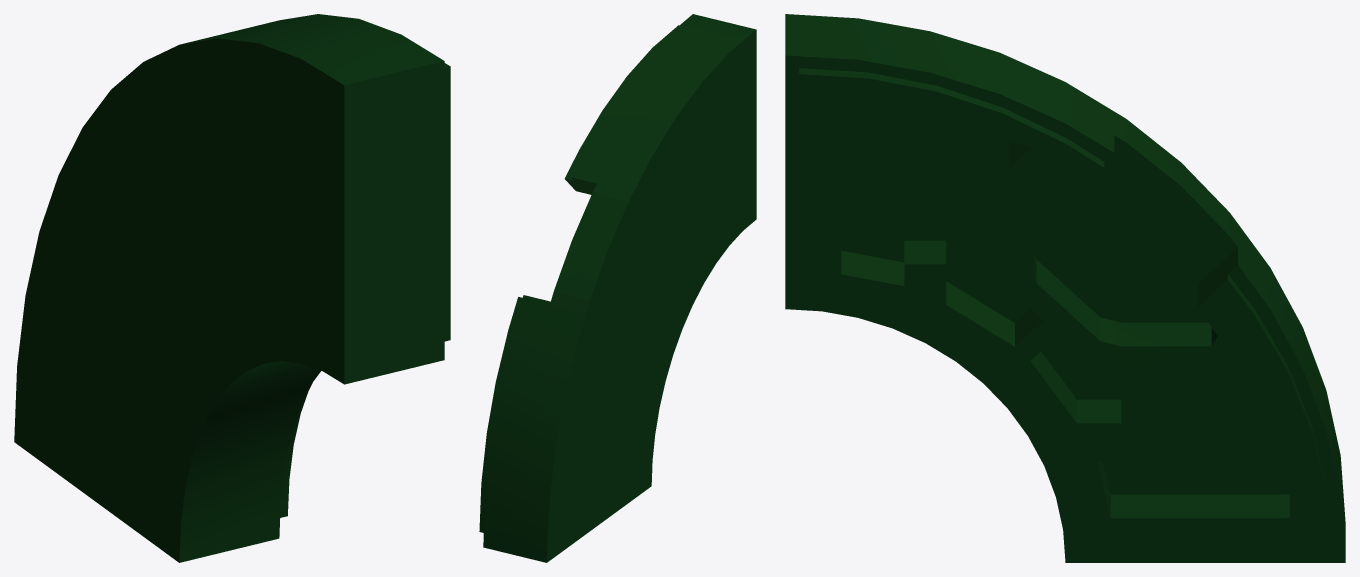
File: tile_round_corner2*2_macaroni_green.obj
3 renders of one model, left to right at view 1: azimuth 30°, elevation 25°; view 2: azimuth 150°, elevation 25°; view 3: azimuth 270°, elevation 25°, orthographic. The views are drawn at different scales.
Bounding box in the file's own units: 8 × 40 × 40.
